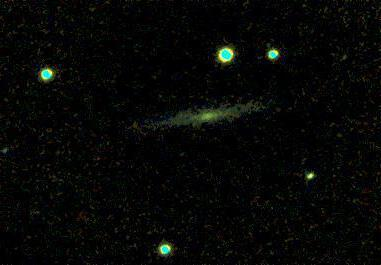star: (331, 42, 361, 72)
